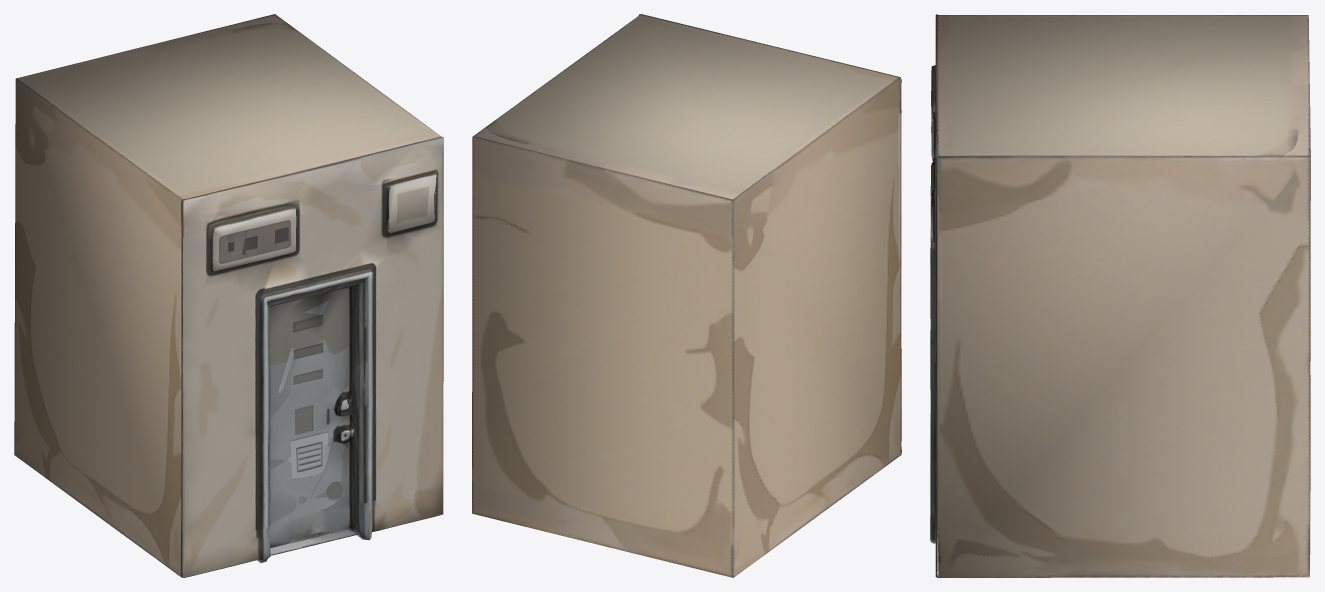
Rendered from Cell_texture.fbx.
3 views of the same model, side by side, from view 1: azimuth 30°, elevation 25°; view 2: azimuth 150°, elevation 25°; view 3: azimuth 270°, elevation 25° (orthographic). The views are drawn at different scales.
Visible parts, largest first — view 1: Mesh_0; view 2: Mesh_0; view 3: Mesh_0.
Part boxes in pixels (x1,y1,x2,y2): Mesh_0: [14, 14, 443, 577]; Mesh_0: [472, 14, 901, 577]; Mesh_0: [930, 14, 1310, 577].
Size of the model in its own units: 143 by 200 by 161.
Materials: 1 (1 with a texture image).
